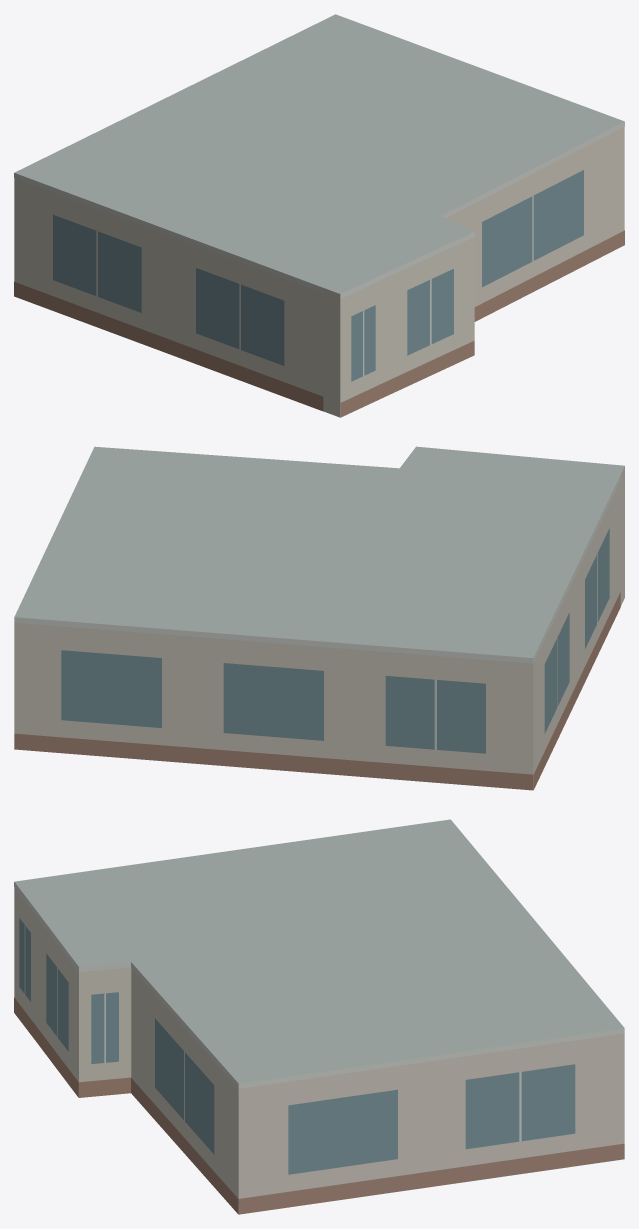
File: survey-upis-32935891.glb
The picture shows the model from 3 angles, top to bottom: view 1: azimuth 30°, elevation 25°; view 2: azimuth 150°, elevation 25°; view 3: azimuth 270°, elevation 25°; orthographic projection. The views are drawn at different scales.
Parts seen in each view (by area): view 1: survey-upis-32935891.tmp; view 2: survey-upis-32935891.tmp; view 3: survey-upis-32935891.tmp.
Part boxes in pixels (bbox=[...]): survey-upis-32935891.tmp: bbox=[14, 14, 624, 417]; survey-upis-32935891.tmp: bbox=[14, 446, 624, 790]; survey-upis-32935891.tmp: bbox=[14, 819, 624, 1214].
Size of the model in its own units: 13.19 by 3.05 by 12.89.
